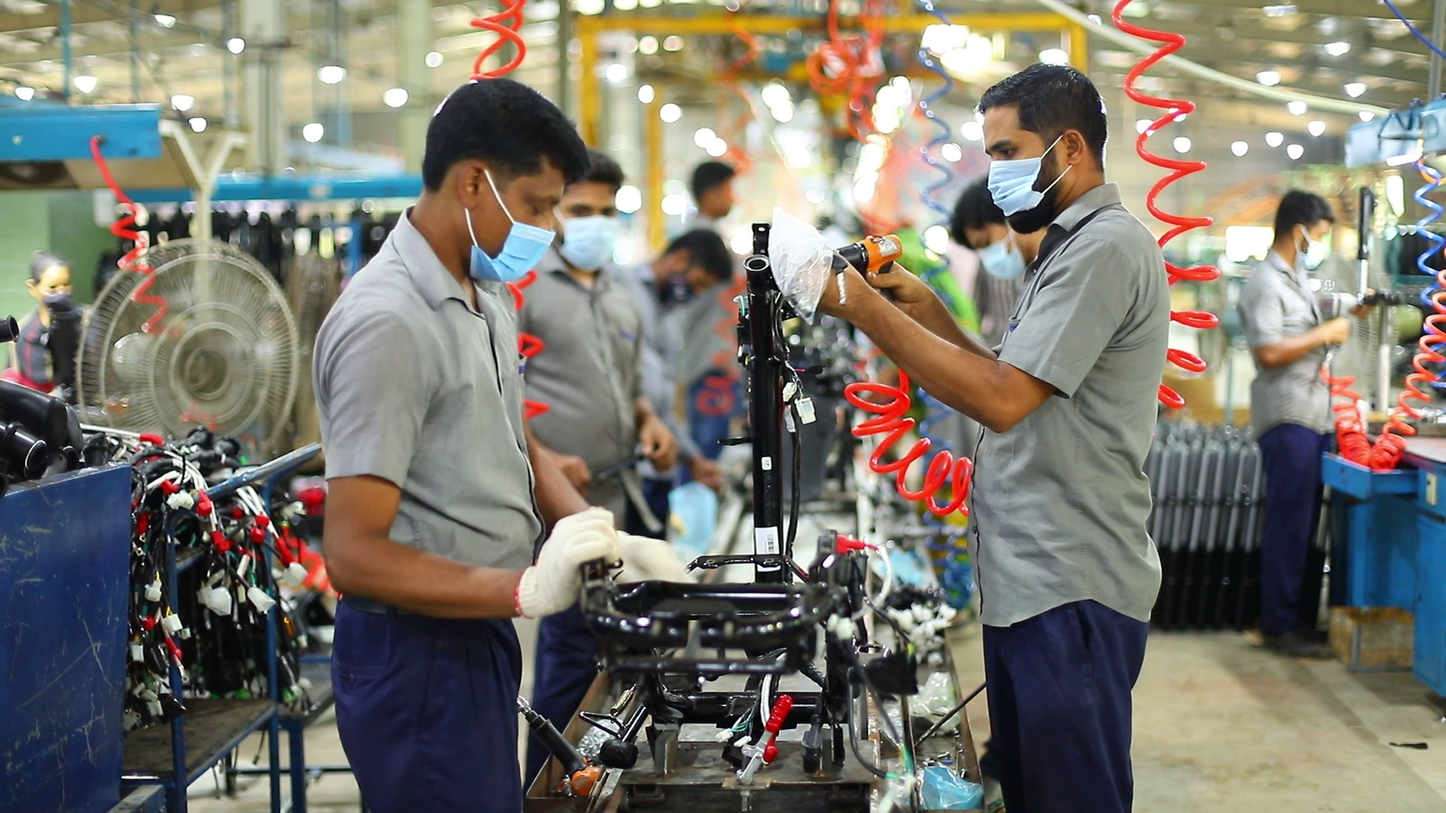mask: (470, 221, 553, 287), (987, 159, 1045, 216), (559, 215, 618, 267), (969, 242, 1027, 281), (1301, 234, 1333, 273), (657, 269, 691, 303)
person: (307, 75, 696, 813), (815, 62, 1175, 812), (518, 146, 677, 767), (1232, 189, 1381, 662), (629, 229, 740, 540), (940, 179, 1030, 354), (6, 248, 90, 402), (685, 159, 738, 233)
